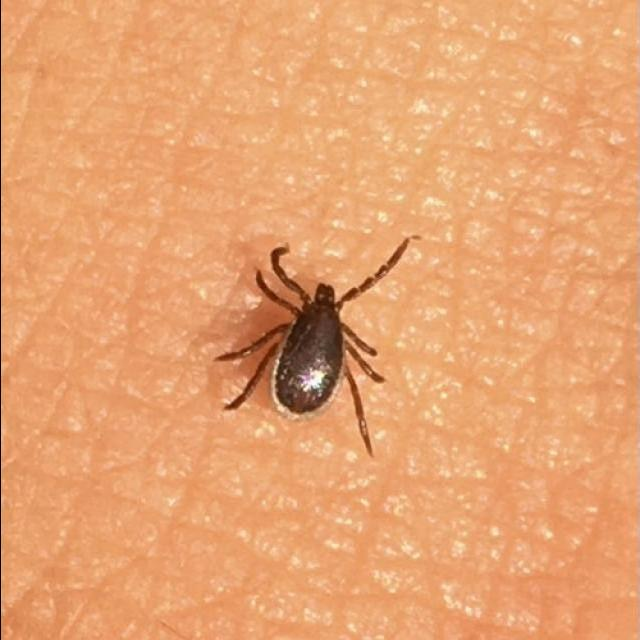Ixodes Ricinus-M: (214, 237, 411, 458)
